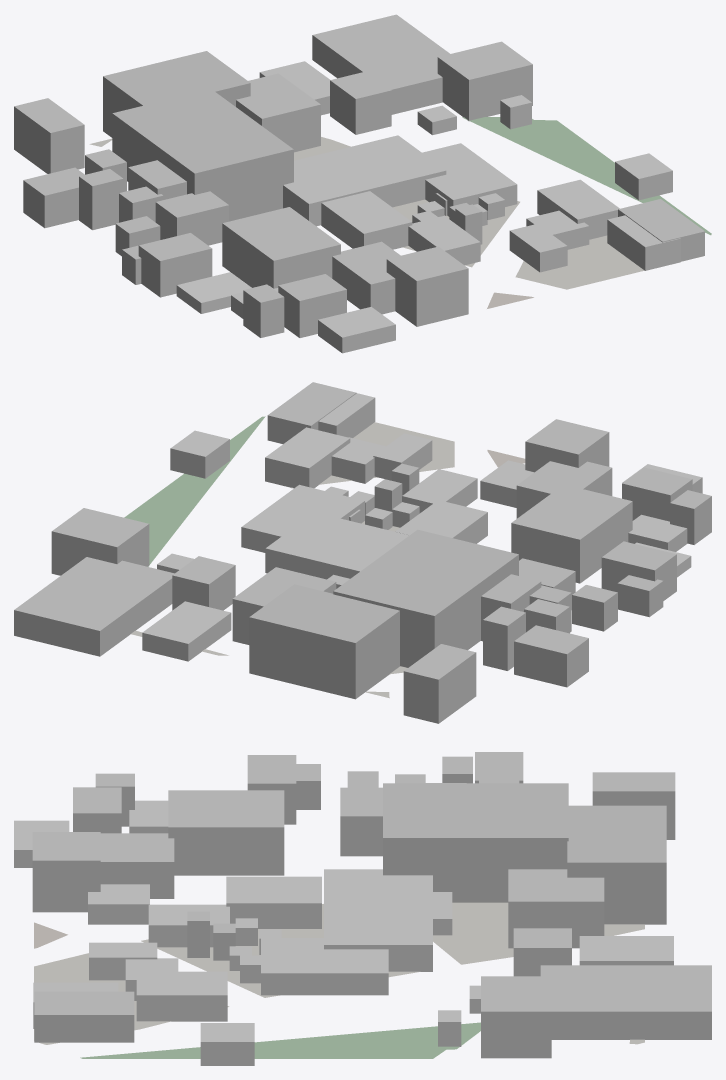
The model's file is 113_94_mid.glb.
3 renders of one model, top to bottom at view 1: azimuth 30°, elevation 25°; view 2: azimuth 150°, elevation 25°; view 3: azimuth 270°, elevation 25°, orthographic. The views are drawn at different scales.
Size of the model in its own units: 540 by 59.46 by 571.
